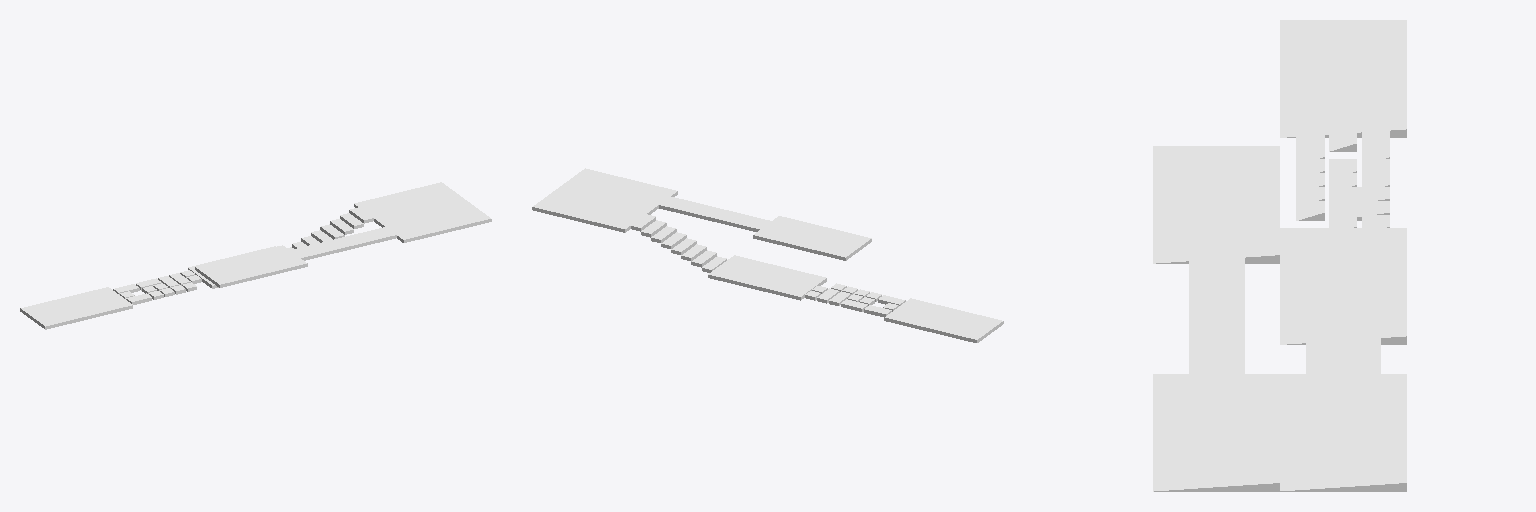
robot.urdf — rubbles_stairs_bridge_1:
<robot name="rubbles_stairs_bridge_1">
  <link name="base_link">
    <visual>
      <origin xyz="0 0 0" rpy="0 0 0" />
      <geometry>
        <mesh filename="package://hpp_environments/meshes/multicontact/rubbles_stairs_bridge_1.stl"/>
      </geometry>
      <material name="white">
        <color rgba="1 1 1 1"/>
      </material>
    </visual>
    <collision>
      <origin xyz="0 0 0" rpy="0 0 0" />
      <geometry>
        <mesh filename="package://hpp_environments/meshes/multicontact/rubbles_stairs_bridge_1.stl"/>
      </geometry>
    </collision>
  </link>
</robot>

--- Render facts (derived) ---
3 views of the same robot in one strip: view 1: azimuth 30°, elevation 25°; view 2: azimuth 150°, elevation 25°; view 3: azimuth 270°, elevation 25° (orthographic).
Model rubbles_stairs_bridge_1 with 1 links and 0 joints (none), rooted at base_link, posed all joints at 0.
Links seen in each view (by area): view 1: base_link; view 2: base_link; view 3: base_link.
Link boxes in pixels (x1,y1,x2,y2): base_link: (20,182,491,329); base_link: (532,168,1003,342); base_link: (1153,20,1406,491).
Size in the robot's own frame: 13.18 by 2.7 by 0.8 metres.
Meshes: 1 distinct files referenced, 1 mesh visuals loaded (1 binary STL).